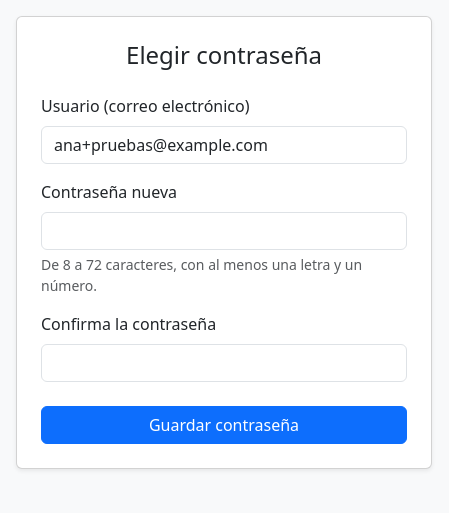
Test: ResetPasswordComponent › exige al menos 8 caracteres
Type "abc1" into the password field labelled "Contraseña nueva" at (224, 231), box [41,212,407,250]
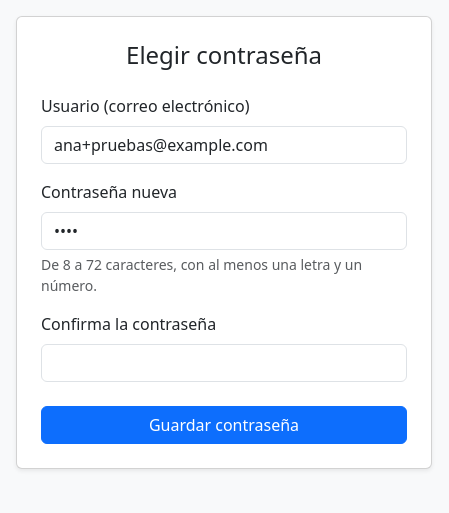
Type "abc1" into the password field labelled "Confirma la contraseña" at (224, 363), box [41,344,407,382]
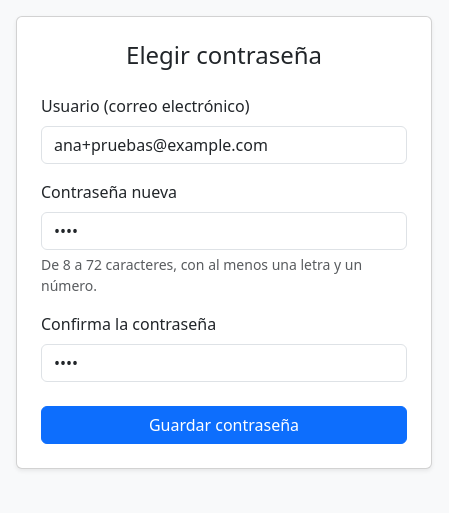
Submit the form, box [41,94,407,444]
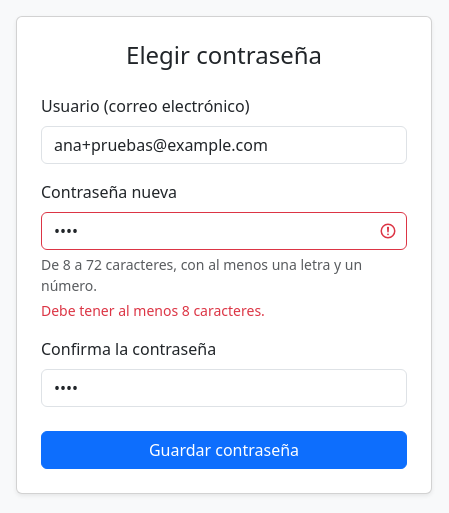
Expected: the text "Debe tener al menos 8 caracteres." is shown, [41,301,265,320]
